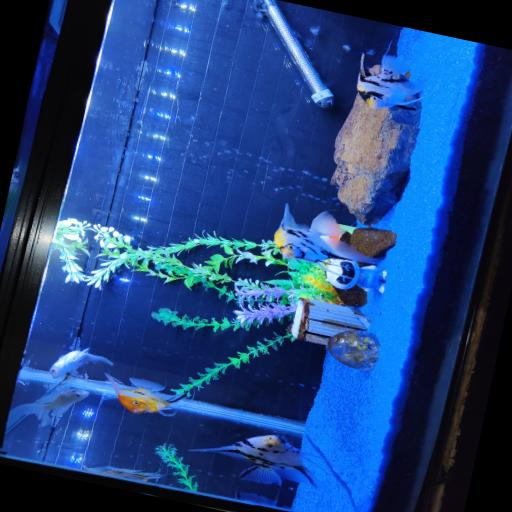Fish: (191, 434, 326, 488), (275, 204, 381, 270), (357, 53, 422, 109), (6, 388, 90, 431), (106, 373, 186, 415), (49, 347, 113, 378), (84, 465, 165, 481), (235, 488, 276, 505)
